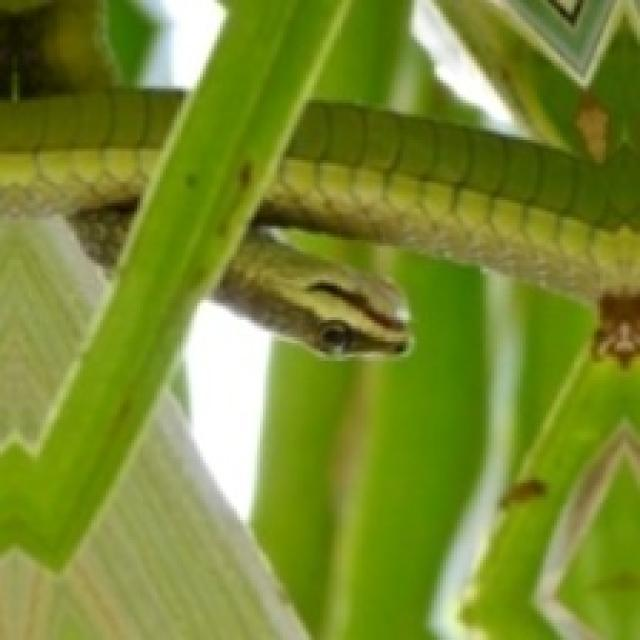paradise tree snake: (254, 26, 637, 300), (0, 0, 180, 266), (0, 0, 180, 211), (211, 226, 406, 351), (220, 231, 406, 349)
